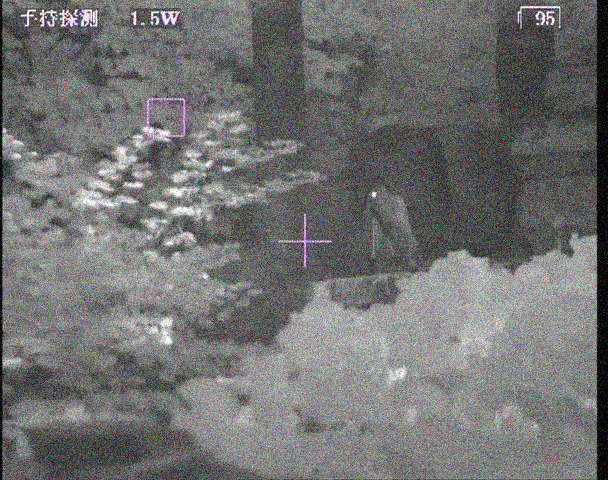my: (370, 190, 379, 198)
